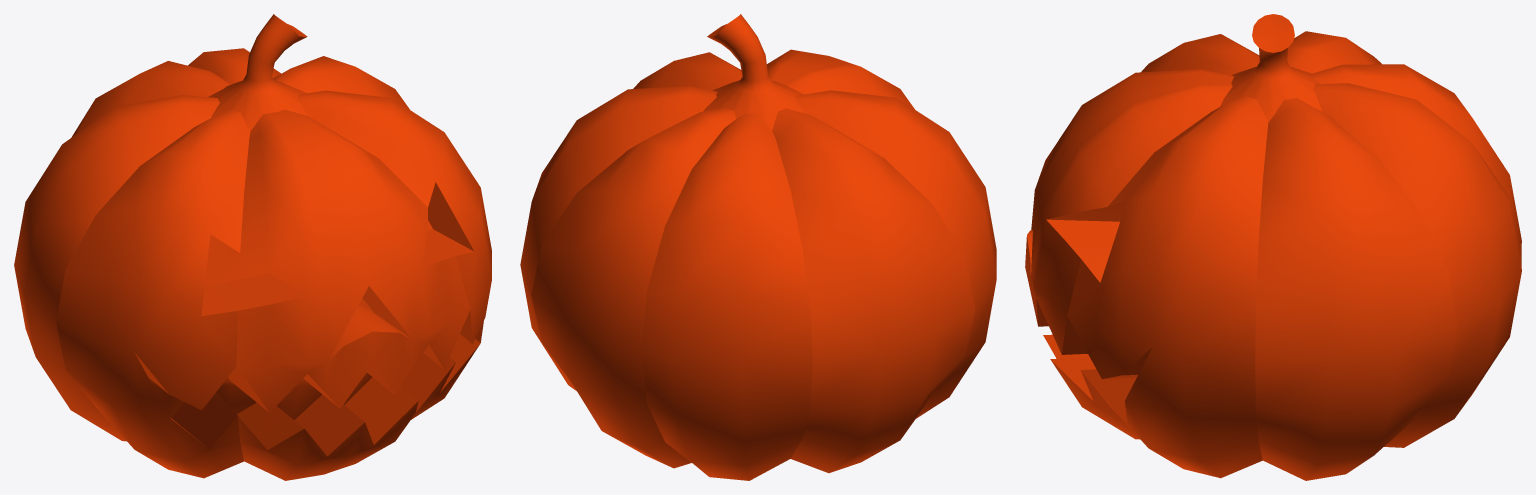
The model's file is cala.obj.
3 views of the same model, side by side, from view 1: azimuth 30°, elevation 25°; view 2: azimuth 150°, elevation 25°; view 3: azimuth 270°, elevation 25° (orthographic). The views are drawn at different scales.
Parts seen in each view (by area): view 1: Cylinder001; view 2: Cylinder001; view 3: Cylinder001.
Boxes of the visible parts, bbox=[...] form: Cylinder001: bbox=[14, 14, 491, 480]; Cylinder001: bbox=[520, 14, 996, 480]; Cylinder001: bbox=[1025, 14, 1521, 480].
Size of the model in its own units: 107 by 101 by 107.
Materials: 1 (1 with a texture image).
